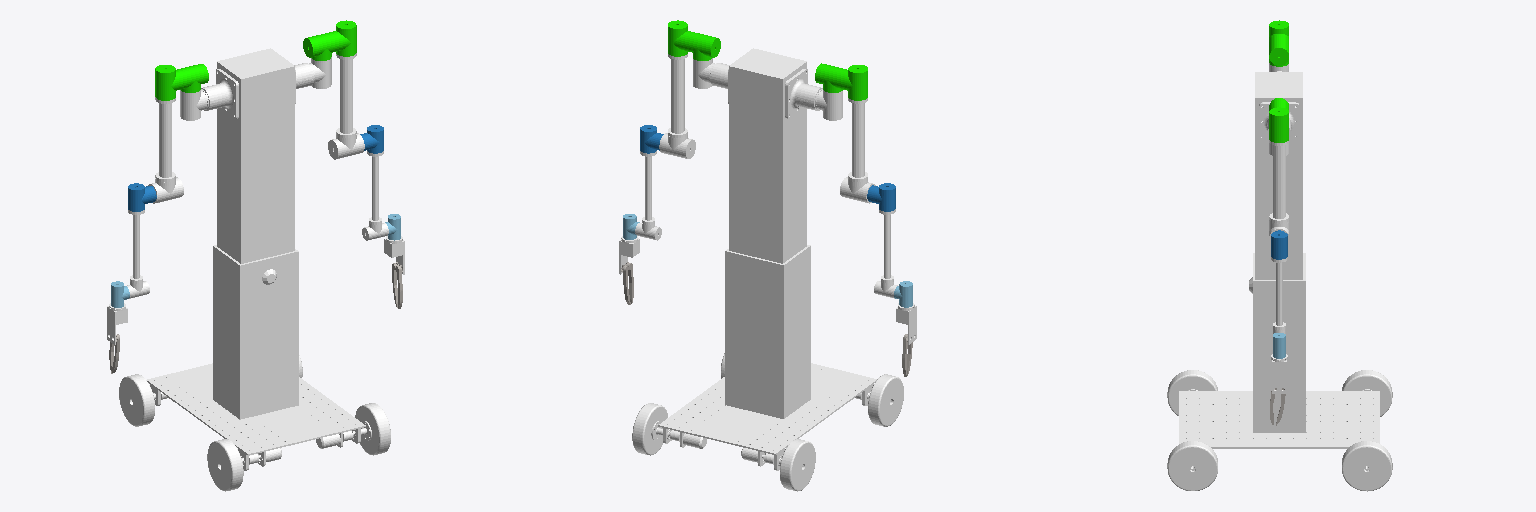
--- Render facts (derived) ---
Views: 3 orthographic renders of the robot side by side, from view 1: azimuth 30°, elevation 25°; view 2: azimuth 150°, elevation 25°; view 3: azimuth 270°, elevation 25°.
Model hustac_pg with 21 links and 20 joints (4 revolute, 14 continuous, 1 prismatic, 1 fixed), rooted at world, posed all joints at 0.
Links seen in each view (by area): view 1: base_link, body_link, left_link3, right_link3, left_link5, right_link5, right_link2, left_link1, left_link2, right_link1, right_link4, right_link7; view 2: base_link, body_link, left_link3, right_link3, left_link5, right_link5, left_link1, right_link2, right_link1, left_link2, right_link4, right_link7; view 3: base_link, body_link, left_link3, left_link2, left_link5, right_link1, left_link7.
Boxes of the visible links, left/top/right/bottom form: base_link: left=119, top=245, right=390, bottom=491; body_link: left=180, top=48, right=331, bottom=263; left_link3: left=328, top=53, right=364, bottom=159; right_link3: left=148, top=97, right=183, bottom=203; left_link5: left=362, top=151, right=388, bottom=240; right_link5: left=127, top=210, right=149, bottom=298; right_link2: left=155, top=65, right=181, bottom=100; left_link1: left=303, top=32, right=339, bottom=60; left_link2: left=333, top=20, right=356, bottom=56; right_link1: left=177, top=64, right=208, bottom=92; right_link4: left=128, top=183, right=156, bottom=211; right_link7: left=107, top=303, right=127, bottom=344; base_link: left=632, top=245, right=903, bottom=491; body_link: left=693, top=48, right=842, bottom=263; left_link3: left=659, top=54, right=695, bottom=158; right_link3: left=840, top=98, right=875, bottom=203; left_link5: left=635, top=151, right=661, bottom=240; right_link5: left=874, top=209, right=897, bottom=298; left_link1: left=684, top=32, right=720, bottom=60; right_link2: left=841, top=65, right=867, bottom=100; right_link1: left=815, top=63, right=846, bottom=92; left_link2: left=668, top=20, right=690, bottom=56; right_link4: left=867, top=183, right=895, bottom=211; right_link7: left=896, top=303, right=916, bottom=344; base_link: left=1167, top=253, right=1392, bottom=491; body_link: left=1255, top=63, right=1302, bottom=279; left_link3: left=1269, top=140, right=1288, bottom=241; left_link2: left=1269, top=107, right=1288, bottom=142; left_link5: left=1271, top=257, right=1287, bottom=333; right_link1: left=1269, top=35, right=1288, bottom=66; left_link7: left=1271, top=354, right=1287, bottom=393.
Size in the robot's own frame: 0.99 by 0.672 by 1.27 metres.
20 mesh visuals loaded from 20 distinct referenced files (20 binary STL).

robot.urdf — hustac_pg:
<robot
  name="hustac_pg">
  <link name="world"/>
  <joint name="fixed" type="fixed">
    <parent link="world"/>
    <child link="base_link"/> 
  </joint>
  <link
    name="base_link">
    <inertial>
      <origin
        xyz="-0.00095923 0.00095981 0.041672"
        rpy="0 0 0" />
      <mass
        value="11.342" />
      <inertia
        ixx="0.6978"
        ixy="1.5266E-05"
        ixz="-0.0008598"
        iyy="0.52095"
        iyz="0.00086107"
        izz="0.77419" />
    </inertial>
    <visual>
      <origin
        xyz="0 0 0"
        rpy="0 0 0" />
      <geometry>
        <mesh
          filename="package://hustac_pg/meshes/base_link.STL" />
      </geometry>
      <material
        name="">
        <color
          rgba="1 1 1 1" />
      </material>
    </visual>
    <collision>
      <origin
        xyz="0 0 0"
        rpy="0 0 0" />
      <geometry>
        <mesh
          filename="package://hustac_pg/meshes/base_link.STL" />
      </geometry>
    </collision>
  </link>
  <link
    name="body_link">
    <inertial>
      <origin
        xyz="-5.5511E-17 0 0.31299"
        rpy="0 0 0" />
      <mass
        value="16.874" />
      <inertia
        ixx="0.55204"
        ixy="-3.7611E-07"
        ixz="1.0863E-17"
        iyy="0.60233"
        iyz="-1.4287E-17"
        izz="0.10632" />
    </inertial>
    <visual>
      <origin
        xyz="0 0 0"
        rpy="0 0 0" />
      <geometry>
        <mesh
          filename="package://hustac_pg/meshes/body_link.STL" />
      </geometry>
      <material
        name="">
        <color
          rgba="1 1 1 1" />
      </material>
    </visual>
    <collision>
      <origin
        xyz="0 0 0"
        rpy="0 0 0" />
      <geometry>
        <mesh
          filename="package://hustac_pg/meshes/body_link.STL" />
      </geometry>
    </collision>
  </link>
  <joint
    name="body_joint"
    type="prismatic">
    <origin
      xyz="-1.5832E-05 1.5832E-05 0.5"
      rpy="0 6.9389E-18 -9.6374E-17" />
    <parent
      link="base_link" />
    <child
      link="body_link" />
    <axis
      xyz="0 0 1" />
    <limit
      lower="0"
      upper="0.43"
      effort="0"
      velocity="0" />
  </joint>
  <link
    name="left_link1">
    <inertial>
      <origin
        xyz="-0.00086061 9.4531E-10 0.036204"
        rpy="0 0 0" />
      <mass
        value="0.2824" />
      <inertia
        ixx="0.00015523"
        ixy="1.0864E-11"
        ixz="9.2262E-07"
        iyy="0.00025351"
        iyz="5.2659E-12"
        izz="0.00023525" />
    </inertial>
    <visual>
      <origin
        xyz="0 0 0"
        rpy="0 0 0" />
      <geometry>
        <mesh
          filename="package://hustac_pg/meshes/left_link1.STL" />
      </geometry>
      <material
        name="">
        <color
          rgba="0.16863 1 0.027451 1" />
      </material>
    </visual>
    <collision>
      <origin
        xyz="0 0 0"
        rpy="0 0 0" />
      <geometry>
        <mesh
          filename="package://hustac_pg/meshes/left_link1.STL" />
      </geometry>
    </collision>
  </link>
  <joint
    name="left_joint1"
    type="continuous">
    <origin
      xyz="0.222 0 0.57"
      rpy="0 0 0" />
    <parent
      link="body_link" />
    <child
      link="left_link1" />
    <axis
      xyz="0 0 1" />
  </joint>
  <link
    name="left_link2">
    <inertial>
      <origin
        xyz="-0.000860606505897893 9.4530515359903E-10 0.0362037746302429"
        rpy="0 0 0" />
      <mass
        value="0.2824001142096" />
      <inertia
        ixx="0.000155226373044821"
        ixy="1.08641722392749E-11"
        ixz="9.22617058430788E-07"
        iyy="0.000253509580708817"
        iyz="5.26586094870428E-12"
        izz="0.000235253423304767" />
    </inertial>
    <visual>
      <origin
        xyz="0 0 0"
        rpy="0 0 0" />
      <geometry>
        <mesh
          filename="package://hustac_pg/meshes/left_link2.STL" />
      </geometry>
      <material
        name="">
        <color
          rgba="0.168627450980392 1 0.0274509803921569 1" />
      </material>
    </visual>
    <collision>
      <origin
        xyz="0 0 0"
        rpy="0 0 0" />
      <geometry>
        <mesh
          filename="package://hustac_pg/meshes/left_link2.STL" />
      </geometry>
    </collision>
  </link>
  <joint
    name="left_joint2"
    type="continuous">
    <origin
      xyz="0.045 0 0.04"
      rpy="0 1.5708 0" />
    <parent
      link="left_link1" />
    <child
      link="left_link2" />
    <axis
      xyz="0 0 1" />
  </joint>
  <link
    name="left_link3">
    <inertial>
      <origin
        xyz="-0.000379421643256744 4.16763498711781E-10 0.205602426953854"
        rpy="0 0 0" />
      <mass
        value="0.640541676718837" />
      <inertia
        ixx="0.00716601969274235"
        ixy="1.09926267163791E-11"
        ixz="2.41571264945384E-05"
        iyy="0.00726441984535015"
        iyz="-2.02553328059238E-11"
        izz="0.000321135847691572" />
    </inertial>
    <visual>
      <origin
        xyz="0 0 0"
        rpy="0 0 0" />
      <geometry>
        <mesh
          filename="package://hustac_pg/meshes/left_link3.STL" />
      </geometry>
      <material
        name="">
        <color
          rgba="1 1 1 1" />
      </material>
    </visual>
    <collision>
      <origin
        xyz="0 0 0"
        rpy="0 0 0" />
      <geometry>
        <mesh
          filename="package://hustac_pg/meshes/left_link3.STL" />
      </geometry>
    </collision>
  </link>
  <joint
    name="left_joint3"
    type="continuous">
    <origin
      xyz="0.045 0 0.04"
      rpy="0 -1.5708 3.1416" />
    <parent
      link="left_link2" />
    <child
      link="left_link3" />
    <axis
      xyz="0 0 1" />
  </joint>
  <link
    name="left_link4">
    <inertial>
      <origin
        xyz="-0.000987080498157017 5.23182483447293E-10 0.0429790452009512"
        rpy="0 0 0" />
      <mass
        value="0.188640665914286" />
      <inertia
        ixx="0.000108943726861082"
        ixy="1.24512886439142E-11"
        ixz="2.05214060471249E-06"
        iyy="0.000135106424724665"
        iyz="4.47078436201741E-12"
        izz="8.93151006462273E-05" />
    </inertial>
    <visual>
      <origin
        xyz="0 0 0"
        rpy="0 0 0" />
      <geometry>
        <mesh
          filename="package://hustac_pg/meshes/left_link4.STL" />
      </geometry>
      <material
        name="">
        <color
          rgba="0.2 0.537254901960784 0.792156862745098 1" />
      </material>
    </visual>
    <collision>
      <origin
        xyz="0 0 0"
        rpy="0 0 0" />
      <geometry>
        <mesh
          filename="package://hustac_pg/meshes/left_link4.STL" />
      </geometry>
    </collision>
  </link>
  <joint
    name="left_joint4"
    type="continuous">
    <origin
      xyz="0.045 0 0.305"
      rpy="0 -1.5708 3.1416" />
    <parent
      link="left_link3" />
    <child
      link="left_link4" />
    <axis
      xyz="0 0 1" />
  </joint>
  <link
    name="left_link5">
    <inertial>
      <origin
        xyz="-0.000497540437768396 3.05156691582376E-10 0.186559646557251"
        rpy="0 0 0" />
      <mass
        value="0.188789056187828" />
      <inertia
        ixx="0.00169655727061657"
        ixy="1.77973134819379E-12"
        ixz="7.36791727599894E-06"
        iyy="0.00171650029639561"
        iyz="-3.32201254181093E-12"
        izz="5.19114928957064E-05" />
    </inertial>
    <visual>
      <origin
        xyz="0 0 0"
        rpy="0 0 0" />
      <geometry>
        <mesh
          filename="package://hustac_pg/meshes/left_link5.STL" />
      </geometry>
      <material
        name="">
        <color
          rgba="1 1 1 1" />
      </material>
    </visual>
    <collision>
      <origin
        xyz="0 0 0"
        rpy="0 0 0" />
      <geometry>
        <mesh
          filename="package://hustac_pg/meshes/left_link5.STL" />
      </geometry>
    </collision>
  </link>
  <joint
    name="left_joint5"
    type="continuous">
    <origin
      xyz="0.035 0 0.054"
      rpy="3.1416 -1.5708 0" />
    <parent
      link="left_link4" />
    <child
      link="left_link5" />
    <axis
      xyz="0 0 1" />
  </joint>
  <link
    name="left_link6">
    <inertial>
      <origin
        xyz="-0.000997680391540356 6.11908579362108E-10 0.0270281439637017"
        rpy="0 0 0" />
      <mass
        value="0.0941485774984349" />
      <inertia
        ixx="2.40728118714625E-05"
        ixy="1.75091814030259E-12"
        ixz="2.79147001136425E-07"
        iyy="4.3968859409779E-05"
        iyz="1.02575144553763E-12"
        izz="4.03142529145275E-05" />
    </inertial>
    <visual>
      <origin
        xyz="0 0 0"
        rpy="0 0 0" />
      <geometry>
        <mesh
          filename="package://hustac_pg/meshes/left_link6.STL" />
      </geometry>
      <material
        name="">
        <color
          rgba="0.572549019607843 0.803921568627451 0.913725490196078 1" />
      </material>
    </visual>
    <collision>
      <origin
        xyz="0 0 0"
        rpy="0 0 0" />
      <geometry>
        <mesh
          filename="package://hustac_pg/meshes/left_link6.STL" />
      </geometry>
    </collision>
  </link>
  <joint
    name="left_joint6"
    type="continuous">
    <origin
      xyz="0.034 0 0.265"
      rpy="0 -1.5708 3.1416" />
    <parent
      link="left_link5" />
    <child
      link="left_link6" />
    <axis
      xyz="0 0 1" />
  </joint>
  <link
    name="left_link7">
    <inertial>
      <origin
        xyz="-8.27865553887364E-12 0.0023202539887736 0.032913708173522"
        rpy="0 0 0" />
      <mass
        value="0.11735440863581" />
      <inertia
        ixx="8.85422435640669E-05"
        ixy="2.26764750461129E-16"
        ixz="2.74500100015027E-15"
        iyy="8.60298838491593E-05"
        iyz="-1.36564631747472E-05"
        izz="4.17895495401198E-05" />
    </inertial>
    <visual>
      <origin
        xyz="0 0 0"
        rpy="0 0 0" />
      <geometry>
        <mesh
          filename="package://hustac_pg/meshes/left_link7.STL" />
      </geometry>
      <material
        name="">
        <color
          rgba="1 1 1 1" />
      </material>
    </visual>
    <collision>
      <origin
        xyz="0 0 0"
        rpy="0 0 0" />
      <geometry>
        <mesh
          filename="package://hustac_pg/meshes/left_link7.STL" />
      </geometry>
    </collision>
  </link>
  <joint
    name="left_joint7"
    type="continuous">
    <origin
      xyz="0.0339999999999998 0 0.0299999999999999"
      rpy="1.5708 0 1.5708" />
    <parent
      link="left_link6" />
    <child
      link="left_link7" />
    <axis
      xyz="0 0 1" />
  </joint>
  <link
    name="left_ee_link">
    <inertial>
      <origin
        xyz="-0.00664083249699293 0.0445700687109863 -0.00552396776360718"
        rpy="0 0 0" />
      <mass
        value="0.0160471379544324" />
      <inertia
        ixx="2.42540126630873E-05"
        ixy="2.26163196336844E-06"
        ixz="6.38941895046785E-08"
        iyy="7.38661887515921E-07"
        iyz="-3.70941007528502E-07"
        izz="2.46219243782297E-05" />
    </inertial>
    <visual>
      <origin
        xyz="0 0 0"
        rpy="0 0 0" />
      <geometry>
        <mesh
          filename="package://hustac_pg/meshes/left_ee_link.STL" />
      </geometry>
      <material
        name="">
        <color
          rgba="0.776470588235294 0.756862745098039 0.737254901960784 1" />
      </material>
    </visual>
    <collision>
      <origin
        xyz="0 0 0"
        rpy="0 0 0" />
      <geometry>
        <mesh
          filename="package://hustac_pg/meshes/left_ee_link.STL" />
      </geometry>
    </collision>
  </link>
  <joint
    name="left_ee_joint"
    type="revolute">
    <origin
      xyz="-0.0119582190854689 0.00250000000005324 0.0997277914220947"
      rpy="1.5707963267949 -1.73472347597681E-16 -4.83067828275371E-30" />
    <parent
      link="left_link7" />
    <child
      link="left_ee_link" />
    <axis
      xyz="0.428984255360233 0 -0.903311966406416" />
    <limit effort="300" velocity="1" lower="-1.57" upper="0" />
  </joint>
  <link
    name="left_ee_link2">
    <inertial>
      <origin
        xyz="-0.00277989357232172 0.0449548128449989 -0.00552396776383867"
        rpy="0 0 0" />
      <mass
        value="0.0160471379544324" />
      <inertia
        ixx="2.41719021673277E-05"
        ixy="2.8106997519547E-06"
        ixz="2.33738871259075E-08"
        iyy="8.50467269454421E-07"
        iyz="-3.77988274820814E-07"
        izz="2.46516192644098E-05" />
    </inertial>
    <visual>
      <origin
        xyz="0 0 0"
        rpy="0 0 0" />
      <geometry>
        <mesh
          filename="package://hustac_pg/meshes/left_ee_link2.STL" />
      </geometry>
      <material
        name="">
        <color
          rgba="0.776470588235294 0.756862745098039 0.737254901960784 1" />
      </material>
    </visual>
    <collision>
      <origin
        xyz="0 0 0"
        rpy="0 0 0" />
      <geometry>
        <mesh
          filename="package://hustac_pg/meshes/left_ee_link2.STL" />
      </geometry>
    </collision>
  </link>
  <joint
    name="left_ee_joint2"
    type="revolute">
    <origin
      xyz="0.0109999999999391 0.00249999999978941 0.100181195392978"
      rpy="1.5707963267949 -1.35306067684619E-16 4.57908710949084E-12" />
    <parent
      link="left_link7" />
    <child
      link="left_ee_link2" />
    <axis
      xyz="0.428984255364369 0 -0.903311966404452" />
    <limit effort="300" velocity="1" lower="-1.57" upper="0" />
    <mimic joint="left_ee_joint" multiplier="-1.0"/>
  </joint>
  <link
    name="right_link1">
    <inertial>
      <origin
        xyz="-0.000860606505898087 9.45305111965666E-10 0.0362037746302432"
        rpy="0 0 0" />
      <mass
        value="0.2824001142096" />
      <inertia
        ixx="0.000155226373044821"
        ixy="1.08641722711581E-11"
        ixz="9.22617058430785E-07"
        iyy="0.000253509580708817"
        iyz="5.2658609733415E-12"
        izz="0.000235253423304767" />
    </inertial>
    <visual>
      <origin
        xyz="0 0 0"
        rpy="0 0 0" />
      <geometry>
        <mesh
          filename="package://hustac_pg/meshes/right_link1.STL" />
      </geometry>
      <material
        name="">
        <color
          rgba="0.168627450980392 1 0.0274509803921569 1" />
      </material>
    </visual>
    <collision>
      <origin
        xyz="0 0 0"
        rpy="0 0 0" />
      <geometry>
        <mesh
          filename="package://hustac_pg/meshes/right_link1.STL" />
      </geometry>
    </collision>
  </link>
  <joint
    name="right_joint1"
    type="continuous">
    <origin
      xyz="-0.222 0 0.57"
      rpy="0 0 3.1416" />
    <parent
      link="body_link" />
    <child
      link="right_link1" />
    <axis
      xyz="0 0 1" />
  </joint>
  <link
    name="right_link2">
    <inertial>
      <origin
        xyz="-0.000860606505898032 9.45305098087879E-10 0.0362037746302431"
        rpy="0 0 0" />
      <mass
        value="0.2824001142096" />
      <inertia
        ixx="0.000155226373044821"
        ixy="1.08641722632084E-11"
        ixz="9.22617058430806E-07"
        iyy="0.000253509580708817"
        iyz="5.26586097360186E-12"
        izz="0.000235253423304767" />
    </inertial>
    <visual>
      <origin
        xyz="0 0 0"
        rpy="0 0 0" />
      <geometry>
        <mesh
          filename="package://hustac_pg/meshes/right_link2.STL" />
      </geometry>
      <material
        name="">
        <color
          rgba="0.168627450980392 1 0.0274509803921569 1" />
      </material>
    </visual>
    <collision>
      <origin
        xyz="0 0 0"
        rpy="0 0 0" />
      <geometry>
        <mesh
          filename="package://hustac_pg/meshes/right_link2.STL" />
      </geometry>
    </collision>
  </link>
  <joint
    name="right_joint2"
    type="continuous">
    <origin
      xyz="0.0449999999999995 0 0.0399999999999999"
      rpy="0 1.5708 0" />
    <parent
      link="right_link1" />
    <child
      link="right_link2" />
    <axis
      xyz="0 0 1" />
  </joint>
  <link
    name="right_link3">
    <inertial>
      <origin
        xyz="-0.000379421643256883 4.16762443999907E-10 0.205602426953854"
        rpy="0 0 0" />
      <mass
        value="0.640541676718836" />
      <inertia
        ixx="0.00716601969274235"
        ixy="1.09926265440344E-11"
        ixz="2.41571264945409E-05"
        iyy="0.00726441984535015"
        iyz="-2.02552983856645E-11"
        izz="0.000321135847691572" />
    </inertial>
    <visual>
      <origin
        xyz="0 0 0"
        rpy="0 0 0" />
      <geometry>
        <mesh
          filename="package://hustac_pg/meshes/right_link3.STL" />
      </geometry>
      <material
        name="">
        <color
          rgba="1 1 1 1" />
      </material>
    </visual>
    <collision>
      <origin
        xyz="0 0 0"
        rpy="0 0 0" />
      <geometry>
        <mesh
          filename="package://hustac_pg/meshes/right_link3.STL" />
      </geometry>
    </collision>
  </link>
  <joint
    name="right_joint3"
    type="continuous">
    <origin
      xyz="0.0450000000000001 0 0.0400000000000001"
      rpy="0 -1.5708 3.1416" />
    <parent
      link="right_link2" />
    <child
      link="right_link3" />
    <axis
      xyz="0 0 1" />
  </joint>
  <link
    name="right_link4">
    <inertial>
      <origin
        xyz="-0.000987080498157711 5.23182677736322E-10 0.0429790452009508"
        rpy="0 0 0" />
      <mass
        value="0.188640665914286" />
      <inertia
        ixx="0.000108943726861082"
        ixy="1.24512886028043E-11"
        ixz="2.05214060471244E-06"
        iyy="0.000135106424724665"
        iyz="4.4707843857927E-12"
        izz="8.93151006462273E-05" />
    </inertial>
    <visual>
      <origin
        xyz="0 0 0"
        rpy="0 0 0" />
      <geometry>
        <mesh
          filename="package://hustac_pg/meshes/right_link4.STL" />
      </geometry>
      <material
        name="">
        <color
          rgba="0.2 0.537254901960784 0.792156862745098 1" />
      </material>
    </visual>
    <collision>
      <origin
        xyz="0 0 0"
        rpy="0 0 0" />
      <geometry>
        <mesh
          filename="package://hustac_pg/meshes/right_link4.STL" />
      </geometry>
    </collision>
  </link>
  <joint
    name="right_joint4"
    type="continuous">
    <origin
      xyz="0.0449999999999998 0 0.305"
      rpy="3.14157 -1.5708 0" />
    <parent
      link="right_link3" />
    <child
      link="right_link4" />
    <axis
      xyz="0 0 1" />
  </joint>
  <link
    name="right_link5">
    <inertial>
      <origin
        xyz="-0.000497540437768285 3.05156247493166E-10 0.186559646557251"
        rpy="0 0 0" />
      <mass
        value="0.188789056187828" />
      <inertia
        ixx="0.00169655727061657"
        ixy="1.77973131826389E-12"
        ixz="7.36791727599866E-06"
        iyy="0.0017165002963956"
        iyz="-3.32200685818258E-12"
        izz="5.19114928957064E-05" />
    </inertial>
    <visual>
      <origin
        xyz="0 0 0"
        rpy="0 0 0" />
      <geometry>
        <mesh
          filename="package://hustac_pg/meshes/right_link5.STL" />
      </geometry>
      <material
        name="">
        <color
          rgba="1 1 1 1" />
      </material>
    </visual>
    <collision>
      <origin
        xyz="0 0 0"
        rpy="0 0 0" />
      <geometry>
        <mesh
          filename="package://hustac_pg/meshes/right_link5.STL" />
      </geometry>
    </collision>
  </link>
  <joint
    name="right_joint5"
    type="continuous">
    <origin
      xyz="0.0349999999999993 0 0.0539999999999995"
      rpy="0 -1.5708 3.1416" />
    <parent
      link="right_link4" />
    <child
      link="right_link5" />
    <axis
      xyz="0 0 1" />
  </joint>
  <link
    name="right_link6">
    <inertial>
      <origin
        xyz="-0.000997680391540134 6.11908648751047E-10 0.0270281439637018"
        rpy="0 0 0" />
      <mass
        value="0.0941485774984348" />
      <inertia
        ixx="2.40728118714625E-05"
        ixy="1.75091813021145E-12"
        ixz="2.79147001136415E-07"
        iyy="4.3968859409779E-05"
        iyz="1.02575144792182E-12"
        izz="4.03142529145274E-05" />
    </inertial>
    <visual>
      <origin
        xyz="0 0 0"
        rpy="0 0 0" />
      <geometry>
        <mesh
          filename="package://hustac_pg/meshes/right_link6.STL" />
      </geometry>
      <material
        name="">
        <color
          rgba="0.572549019607843 0.803921568627451 0.913725490196078 1" />
      </material>
    </visual>
    <collision>
      <origin
        xyz="0 0 0"
        rpy="0 0 0" />
      <geometry>
        <mesh
          filename="package://hustac_pg/meshes/right_link6.STL" />
      </geometry>
    </collision>
  </link>
  <joint
    name="right_joint6"
    type="continuous">
    <origin
      xyz="0.0340000000000004 0 0.265"
      rpy="3.14157 -1.5708 0" />
    <parent
      link="right_link5" />
    <child
      link="right_link6" />
    <axis
      xyz="0 0 1" />
  </joint>
  <link
    name="right_link7">
    <inertial>
      <origin
        xyz="9.95759030786303E-13 0.00232025399884721 0.032913708170886"
        rpy="0 0 0" />
      <mass
        value="0.11735440863581" />
      <inertia
        ixx="8.85422435628811E-05"
        ixy="-4.05541040267633E-16"
        ixz="-2.32098631422178E-15"
        iyy="8.60298838474488E-05"
        iyz="-1.36564631779469E-05"
        izz="4.17895495406444E-05" />
    </inertial>
    <visual>
      <origin
        xyz="0 0 0"
        rpy="0 0 0" />
      <geometry>
        <mesh
          filename="package://hustac_pg/meshes/right_link7.STL" />
      </geometry>
      <material
        name="">
        <color
          rgba="1 1 1 1" />
      </material>
    </visual>
    <collision>
      <origin
        xyz="0 0 0"
        rpy="0 0 0" />
      <geometry>
        <mesh
          filename="package://hustac_pg/meshes/right_link7.STL" />
      </geometry>
    </collision>
  </link>
  <joint
    name="right_joint7"
    type="continuous">
    <origin
      xyz="0.034 0 0.03"
      rpy="1.5708 0 1.5708" />
    <parent
      link="right_link6" />
    <child
      link="right_link7" />
    <axis
      xyz="0 0 1" />
  </joint>
  <link
    name="right_ee_link">
    <inertial>
      <origin
        xyz="-0.00572375680999526 0.0446970963859387 -0.00552396768972303"
        rpy="0 0 0" />
      <mass
        value="0.0160471379544324" />
      <inertia
        ixx="2.43369960535389E-05"
        ixy="1.77671307745511E-06"
        ixz="5.62598975616749E-08"
        iyy="6.55678497062272E-07"
        iyz="-3.72175392011934E-07"
        izz="2.46219243782318E-05" />
    </inertial>
    <visual>
      <origin
        xyz="0 0 0"
        rpy="0 0 0" />
      <geometry>
        <mesh
          filename="package://hustac_pg/meshes/right_ee_link.STL" />
      </geometry>
      <material
        name="">
        <color
          rgba="0.776470588235294 0.756862745098039 0.737254901960784 1" />
      </material>
    </visual>
    <collision>
      <origin
        xyz="0 0 0"
        rpy="0 0 0" />
      <geometry>
        <mesh
          filename="package://hustac_pg/meshes/right_ee_link.STL" />
      </geometry>
    </collision>
  </link>
  <joint
    name="right_ee_joint"
    type="revolute">
    <origin
      xyz="-0.011967 0.0025 0.099748"
      rpy="1.5708 -2.2898E-16 -1.4159E-10" />
    <parent
      link="right_link7" />
    <child
      link="right_ee_link" />
    <axis
      xyz="0 0 -1" />
    <limit effort="300" velocity="1" lower="-1.57" upper="0" />
  </joint>
  <link
    name="right_ee_link2">
    <inertial>
      <origin
        xyz="-0.00394022135533645 0.044868008178698 -0.00552396016523084"
        rpy="0 0 0" />
      <mass
        value="0.0160471379544324" />
      <inertia
        ixx="2.40111796717726E-05"
        ixy="3.40917594028025E-06"
        ixz="3.31301004426533E-08"
        iyy="1.0111897650086E-06"
        iyz="-3.77258360956297E-07"
        izz="2.46516192644106E-05" />
    </inertial>
    <visual>
      <origin
        xyz="0 0 0"
        rpy="0 0 0" />
      <geometry>
        <mesh
          filename="package://hustac_pg/meshes/right_ee_link2.STL" />
      </geometry>
      <material
        name="">
        <color
          rgba="0.776470588235294 0.756862745098039 0.737254901960784 1" />
      </material>
    </visual>
    <collision>
      <origin
        xyz="0 0 0"
        rpy="0 0 0" />
      <geometry>
        <mesh
          filename="package://hustac_pg/meshes/right_ee_link2.STL" />
      </geometry>
    </collision>
  </link>
  <joint
    name="right_ee_joint2"
    type="revolute">
    <origin
      xyz="0.011 0.0025 0.10018"
      rpy="1.5708 -2.2898E-16 -1.4159E-10" />
    <parent
      link="right_link7" />
    <child
      link="right_ee_link2" />
    <axis
      xyz="0 0 -1" />
    <limit effort="300" velocity="1" lower="-1.57" upper="0" />
    <mimic joint="right_ee_joint" multiplier="-1.0"/>
  </joint>

  <transmission name="body_tran">
    <type>transmission_interface/SimpleTransmission</type>
    <joint name="body_joint">
      <hardwareInterface>hardware_interface/PositionJointInterface</hardwareInterface>
    </joint>
    <actuator name="body_motor">
      <hardwareInterface>hardware_interface/PositionJointInterface</hardwareInterface>
      <mechanicalReduction>1</mechanicalReduction>
    </actuator>
  </transmission>
  <transmission name="left_tran1">
    <type>transmission_interface/SimpleTransmission</type>
    <joint name="left_joint1">
      <hardwareInterface>hardware_interface/PositionJointInterface</hardwareInterface>
    </joint>
    <actuator name="left_motor1">
      <hardwareInterface>hardware_interface/PositionJointInterface</hardwareInterface>
      <mechanicalReduction>1</mechanicalReduction>
    </actuator>
  </transmission>
  <transmission name="left_tran2">
    <type>transmission_interface/SimpleTransmission</type>
    <joint name="left_joint2">
      <hardwareInterface>hardware_interface/PositionJointInterface</hardwareInterface>
    </joint>
    <actuator name="left_motor2">
      <hardwareInterface>hardware_interface/PositionJointInterface</hardwareInterface>
      <mechanicalReduction>1</mechanicalReduction>
    </actuator>
  </transmission>
  <transmission name="left_tran3">
    <type>transmission_interface/SimpleTransmission</type>
    <joint name="left_joint3">
      <hardwareInterface>hardware_interface/PositionJointInterface</hardwareInterface>
    </joint>
    <actuator name="left_motor3">
      <hardwareInterface>hardware_interface/PositionJointInterface</hardwareInterface>
      <mechanicalReduction>1</mechanicalReduction>
    </actuator>
  </transmission>
  <transmission name="left_tran4">
    <type>transmission_interface/SimpleTransmission</type>
    <joint name="left_joint4">
      <hardwareInterface>hardware_interface/PositionJointInterface</hardwareInterface>
    </joint>
    <actuator name="left_motor4">
      <hardwareInterface>hardware_interface/PositionJointInterface</hardwareInterface>
      <mechanicalReduction>1</mechanicalReduction>
    </actuator>
  </transmission>
  <transmission name="left_tran5">
    <type>transmission_interface/SimpleTransmission</type>
    <joint name="left_joint5">
      <hardwareInterface>hardware_interface/PositionJointInterface</hardwareInterface>
    </joint>
    <actuator name="left_motor5">
      <hardwareInterface>hardware_interface/PositionJointInterface</hardwareInterface>
      <mechanicalReduction>1</mechanicalReduction>
    </actuator>
  </transmission>
  <transmission name="left_tran6">
    <type>transmission_interface/SimpleTransmission</type>
    <joint name="left_joint6">
      <hardwareInterface>hardware_interface/PositionJointInterface</hardwareInterface>
    </joint>
    <actuator name="left_motor6">
      <hardwareInterface>hardware_interface/PositionJointInterface</hardwareInterface>
      <mechanicalReduction>1</mechanicalReduction>
    </actuator>
  </transmission>
  <transmission name="left_tran7">
    <type>transmission_interface/SimpleTransmission</type>
    <joint name="left_joint7">
      <hardwareInterface>hardware_interface/PositionJointInterface</hardwareInterface>
    </joint>
    <actuator name="left_motor7">
      <hardwareInterface>hardware_interface/PositionJointInterface</hardwareInterface>
      <mechanicalReduction>1</mechanicalReduction>
    </actuator>
  </transmission>
  <transmission name="left_ee_tran">
    <type>transmission_interface/SimpleTransmission</type>
    <joint name="left_ee_joint">
      <hardwareInterface>hardware_interface/PositionJointInterface</hardwareInterface>
    </joint>
    <actuator name="left_ee_motor">
      <hardwareInterface>hardware_interface/PositionJointInterface</hardwareInterface>
      <mechanicalReduction>1</mechanicalReduction>
    </actuator>
  </transmission>

  <transmission name="right_tran1">
    <type>transmission_interface/SimpleTransmission</type>
    <joint name="right_joint1">
      <hardwareInterface>hardware_interface/PositionJointInterface</hardwareInterface>
    </joint>
    <actuator name="right_motor1">
      <hardwareInterface>hardware_interface/PositionJointInterface</hardwareInterface>
      <mechanicalReduction>1</mechanicalReduction>
    </actuator>
  </transmission>
  <transmission name="right_tran2">
    <type>transmission_interface/SimpleTransmission</type>
    <joint name="right_joint2">
      <hardwareInterface>hardware_interface/PositionJointInterface</hardwareInterface>
    </joint>
    <actuator name="right_motor2">
      <hardwareInterface>hardware_interface/PositionJointInterface</hardwareInterface>
      <mechanicalReduction>1</mechanicalReduction>
    </actuator>
  </transmission>
  <transmission name="right_tran3">
    <type>transmission_interface/SimpleTransmission</type>
    <joint name="right_joint3">
      <hardwareInterface>hardware_interface/PositionJointInterface</hardwareInterface>
    </joint>
    <actuator name="right_motor3">
      <hardwareInterface>hardware_interface/PositionJointInterface</hardwareInterface>
      <mechanicalReduction>1</mechanicalReduction>
    </actuator>
  </transmission>
  <transmission name="right_tran4">
    <type>transmission_interface/SimpleTransmission</type>
    <joint name="right_joint4">
      <hardwareInterface>hardware_interface/PositionJointInterface</hardwareInterface>
    </joint>
    <actuator name="right_motor4">
      <hardwareInterface>hardware_interface/PositionJointInterface</hardwareInterface>
      <mechanicalReduction>1</mechanicalReduction>
    </actuator>
  </transmission>
  <transmission name="right_tran5">
    <type>transmission_interface/SimpleTransmission</type>
    <joint name="right_joint5">
      <hardwareInterface>hardware_interface/PositionJointInterface</hardwareInterface>
    </joint>
    <actuator name="right_motor5">
      <hardwareInterface>hardware_interface/PositionJointInterface</hardwareInterface>
      <mechanicalReduction>1</mechanicalReduction>
    </actuator>
  </transmission>
  <transmission name="right_tran6">
    <type>transmission_interface/SimpleTransmission</type>
    <joint name="right_joint6">
      <hardwareInterface>hardware_interface/PositionJointInterface</hardwareInterface>
    </joint>
    <actuator name="right_motor6">
      <hardwareInterface>hardware_interface/PositionJointInterface</hardwareInterface>
      <mechanicalReduction>1</mechanicalReduction>
    </actuator>
  </transmission>
  <transmission name="right_tran7">
    <type>transmission_interface/SimpleTransmission</type>
    <joint name="right_joint7">
      <hardwareInterface>hardware_interface/PositionJointInterface</hardwareInterface>
    </joint>
    <actuator name="right_motor7">
      <hardwareInterface>hardware_interface/PositionJointInterface</hardwareInterface>
      <mechanicalReduction>1</mechanicalReduction>
    </actuator>
  </transmission>
  <transmission name="right_ee_tran">
    <type>transmission_interface/SimpleTransmission</type>
    <joint name="right_ee_joint">
      <hardwareInterface>hardware_interface/PositionJointInterface</hardwareInterface>
    </joint>
    <actuator name="right_ee_motor">
      <hardwareInterface>hardware_interface/PositionJointInterface</hardwareInterface>
      <mechanicalReduction>1</mechanicalReduction>
    </actuator>
  </transmission>
  <gazebo>
    <plugin filename="libgazebo_ros_control.so" name="gazebo_ros_control">
      <robotNamespace>/armdouble</robotNamespace>
      <robotSimType>gazebo_ros_control/DefaultRobotHWSim</robotSimType>
    </plugin>
  </gazebo>
</robot>
